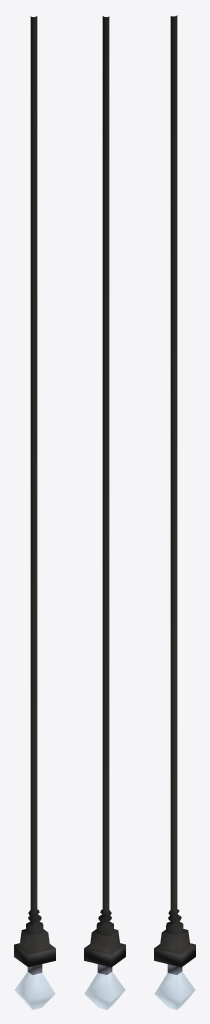
File: grave_hanging_bulb.glb
The picture shows the model from 3 angles, left to right: view 1: azimuth 30°, elevation 25°; view 2: azimuth 150°, elevation 25°; view 3: azimuth 330°, elevation 25°; orthographic projection.
Parts seen in each view (by area): view 1: Cube.005; view 2: Cube.005; view 3: Cube.005.
Part boxes in pixels (x1,y1,x2,y2): Cube.005: [14, 16, 55, 1009]; Cube.005: [84, 16, 125, 1009]; Cube.005: [154, 15, 195, 1009].
Bounding box in the file's own units: 0.114 × 3.92 × 0.1033.
Materials: 3 (3 with a texture image).
